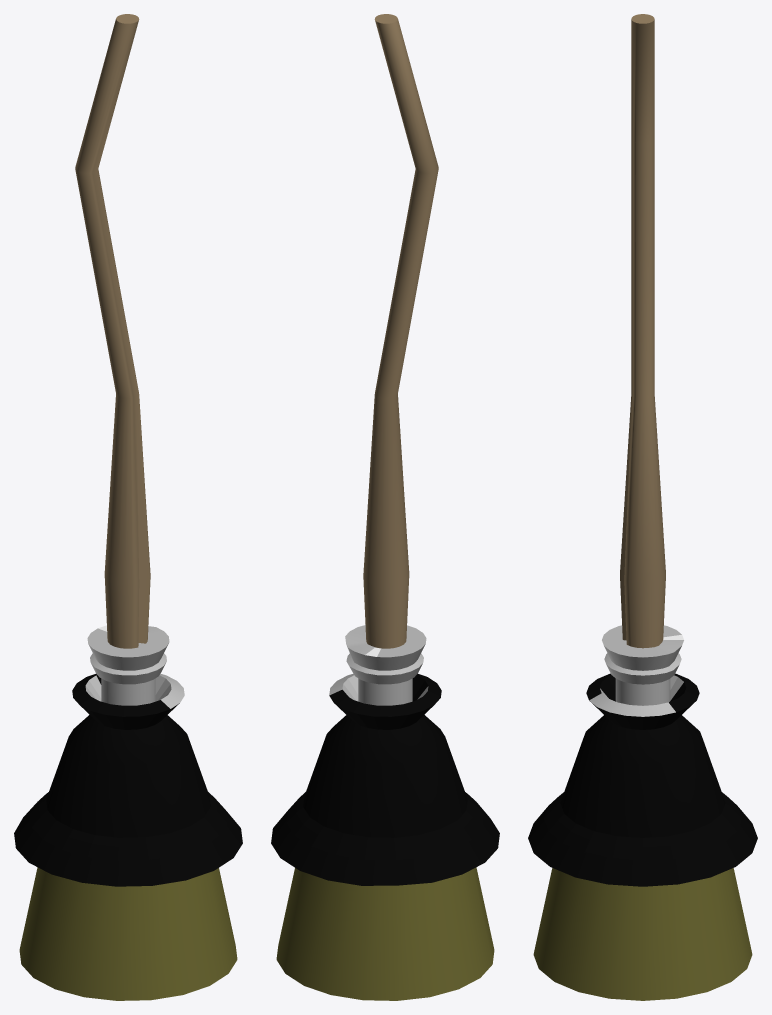
Rendered from BROOM03.fbx.
3 renders of one model, left to right at view 1: azimuth 30°, elevation 25°; view 2: azimuth 150°, elevation 25°; view 3: azimuth 270°, elevation 25°, orthographic.
Parts seen in each view (by area): view 1: pCylinder13; view 2: pCylinder13; view 3: pCylinder13.
Part boxes in pixels (box(x1,y1,x2,y2)): pCylinder13: box(14, 14, 242, 1000); pCylinder13: box(271, 14, 499, 1000); pCylinder13: box(528, 14, 757, 1000).
Size of the model in its own units: 11.1 by 11.1 by 49.8.
